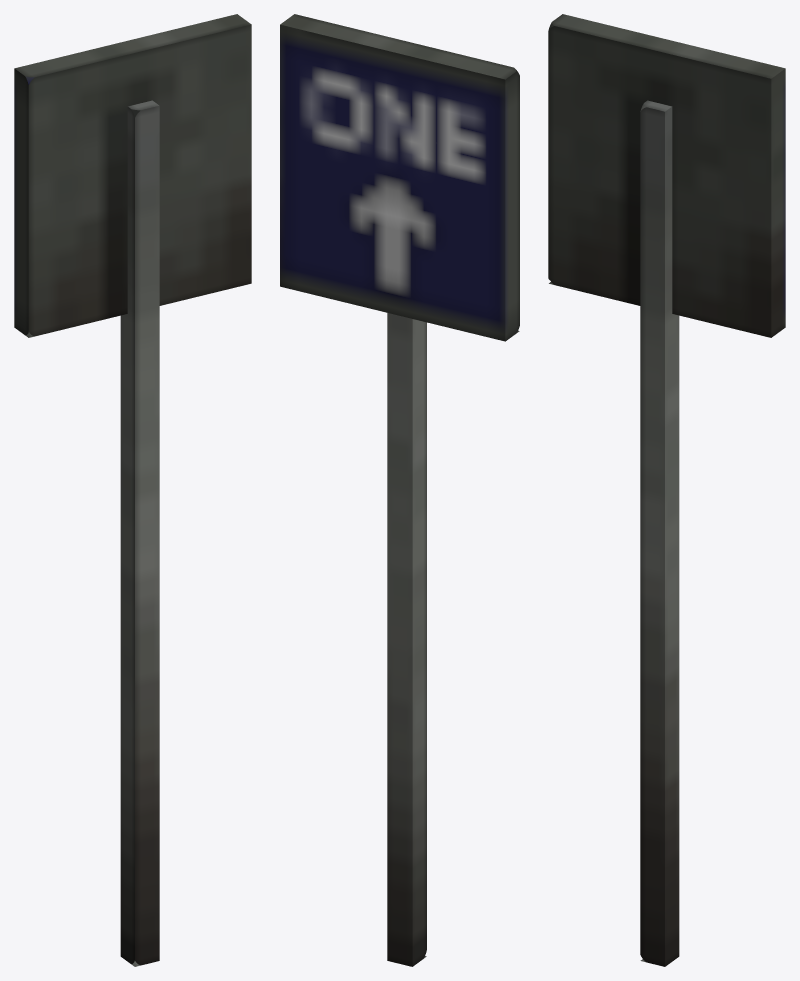
Rendered from roadsign_parking.obj.
3 renders of one model, left to right at view 1: azimuth 30°, elevation 25°; view 2: azimuth 150°, elevation 25°; view 3: azimuth 330°, elevation 25°, orthographic.
Parts seen in each view (by area): view 1: ny, nx; view 2: ny, nx; view 3: ny, nx.
Part boxes in pixels (x1,y1,x2,y2): ny: (14,14,251,337); nx: (120,100,159,966); ny: (280,14,519,341); nx: (387,313,426,966); ny: (548,14,785,337); nx: (640,100,679,966).
Bounding box in the file's own units: 0.5625 × 2.19 × 0.0938.
Materials: 1 (1 with a texture image).
